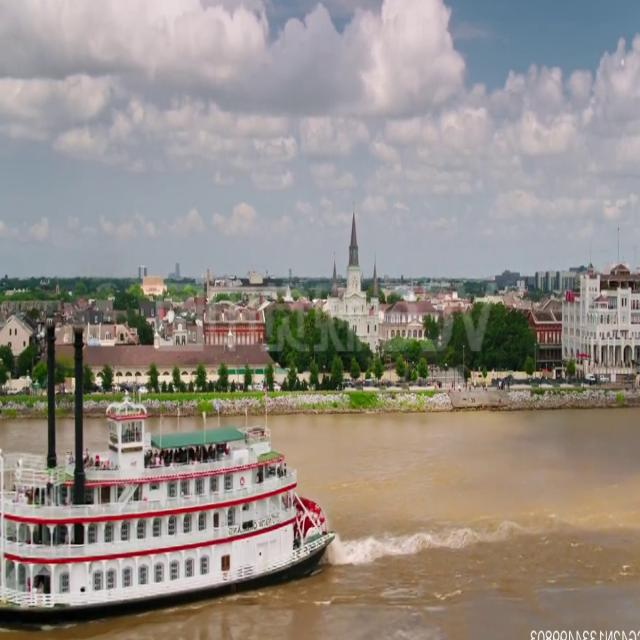passenger ship: (0, 368, 337, 632)
